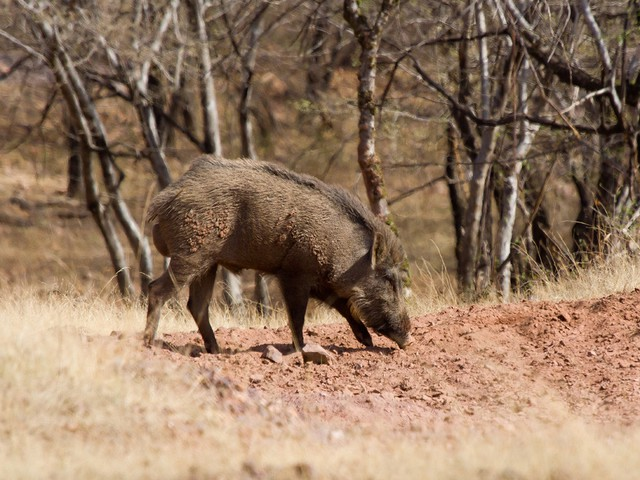Pig: (137, 151, 429, 356)
